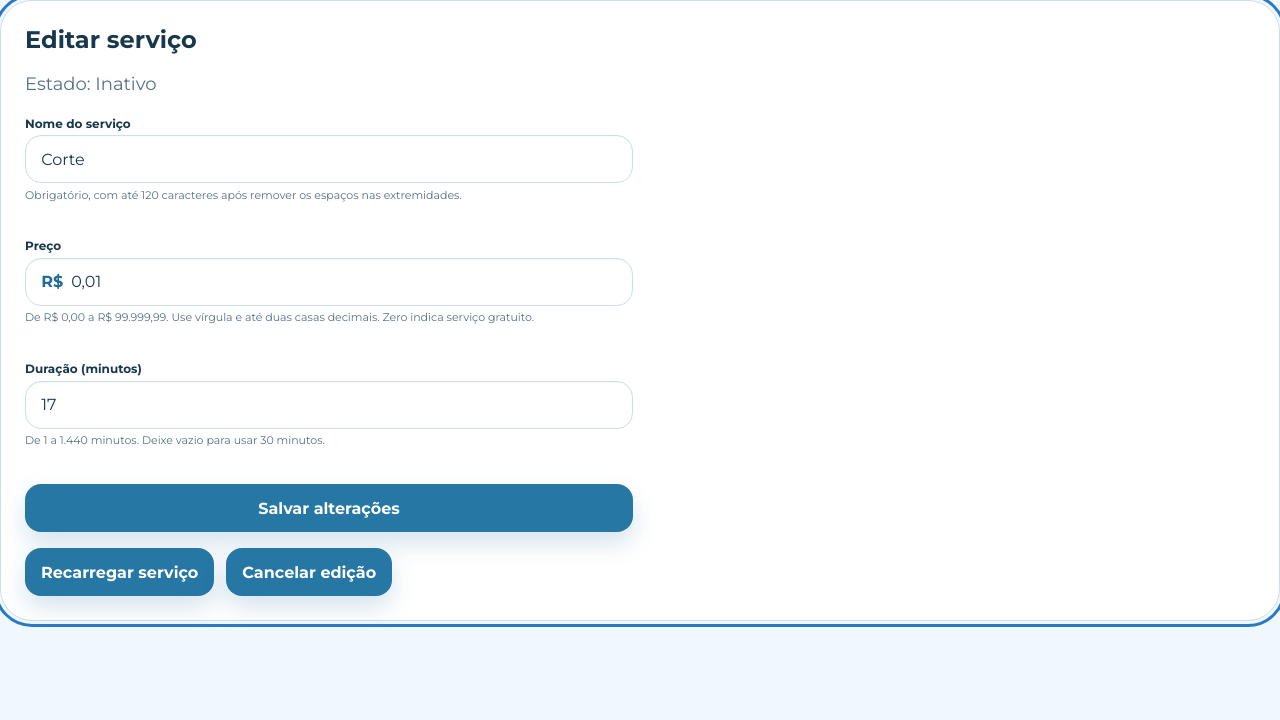
Test: carrega inativo e envia apenas preço alterado
Replace the text in the field labelled "Preço" with "1,01" at (348, 282), box [63,259,632,305]
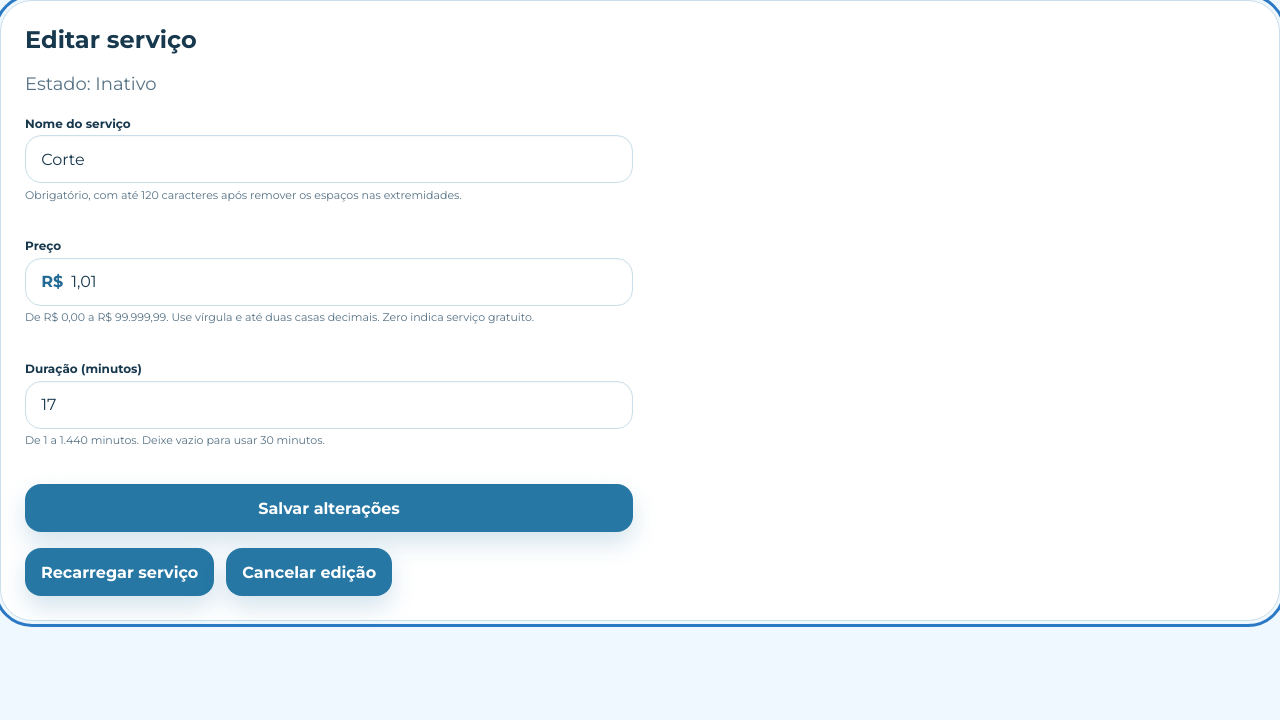
Click the button "Salvar alterações" at (329, 508), box [25,484,633,532]
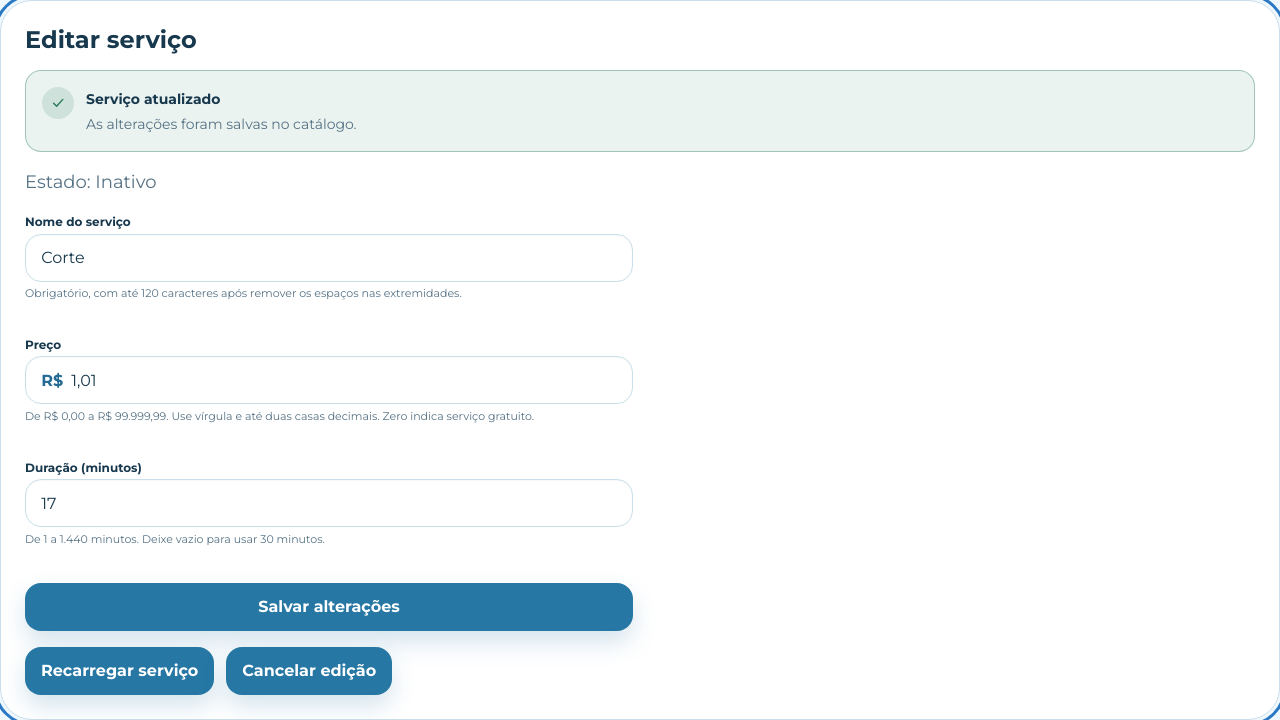
Check: the text "Serviço atualizado" is shown, box [86,90,220,108]
